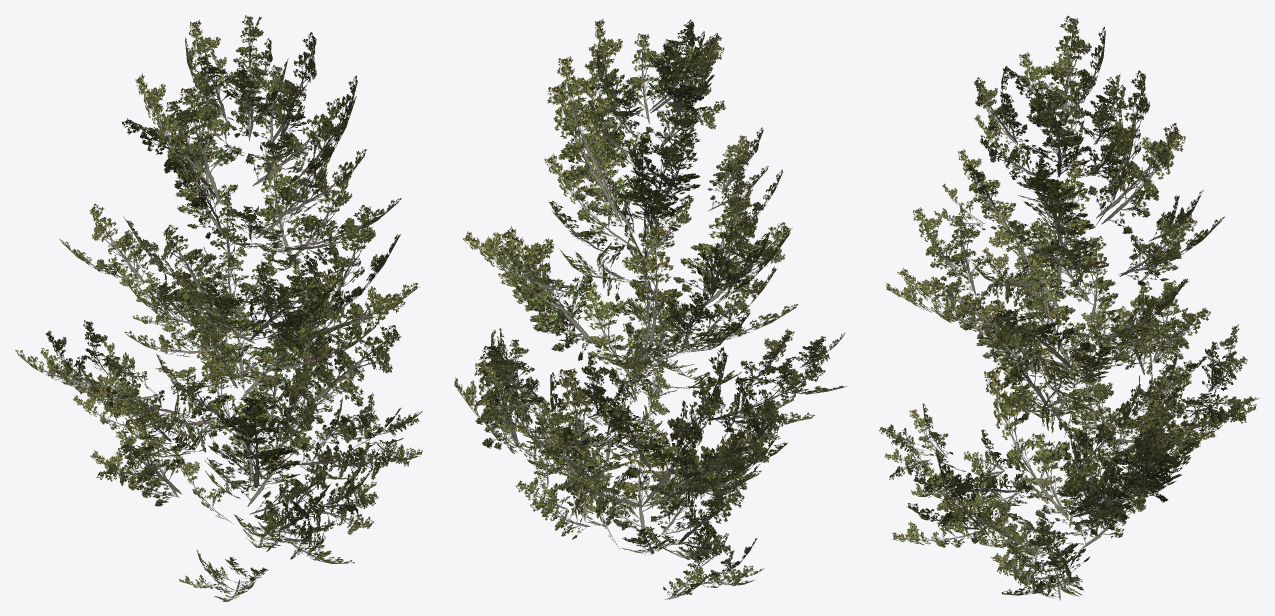
Rendered from Presid_Tree_leaves.FBX.
The picture shows the model from 3 angles, left to right: view 1: azimuth 30°, elevation 25°; view 2: azimuth 150°, elevation 25°; view 3: azimuth 270°, elevation 25°; orthographic projection. The views are drawn at different scales.
Visible parts, largest first — view 1: Presid_Tree_leaves; view 2: Presid_Tree_leaves; view 3: Presid_Tree_leaves.
Part boxes in pixels (x1,y1,x2,y2): Presid_Tree_leaves: (15,15,422,601); Presid_Tree_leaves: (454,18,847,599); Presid_Tree_leaves: (879,15,1259,600).
Bounding box in the file's own units: 8.58 × 13.29 × 8.2.
